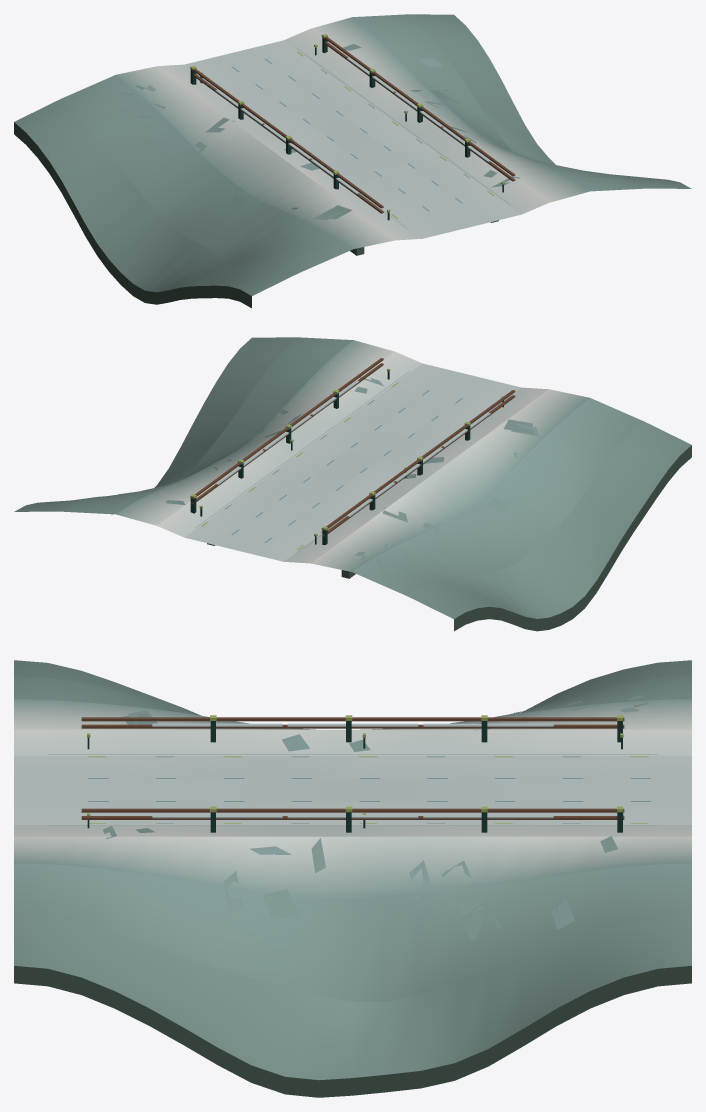
File: 04-bridge.glb
The picture shows the model from 3 angles, top to bottom: view 1: azimuth 30°, elevation 25°; view 2: azimuth 150°, elevation 25°; view 3: azimuth 270°, elevation 25°; orthographic projection. The views are drawn at different scales.
Parts seen in each view (by area): view 1: bridge; view 2: bridge; view 3: bridge.
Part boxes in pixels (x1=…): bridge: x1=14, y1=14, x2=691, y2=308; bridge: x1=14, y1=337, x2=691, y2=631; bridge: x1=14, y1=660, x2=691, y2=1097.
Size of the model in its own units: 32 by 8.92 by 30.
